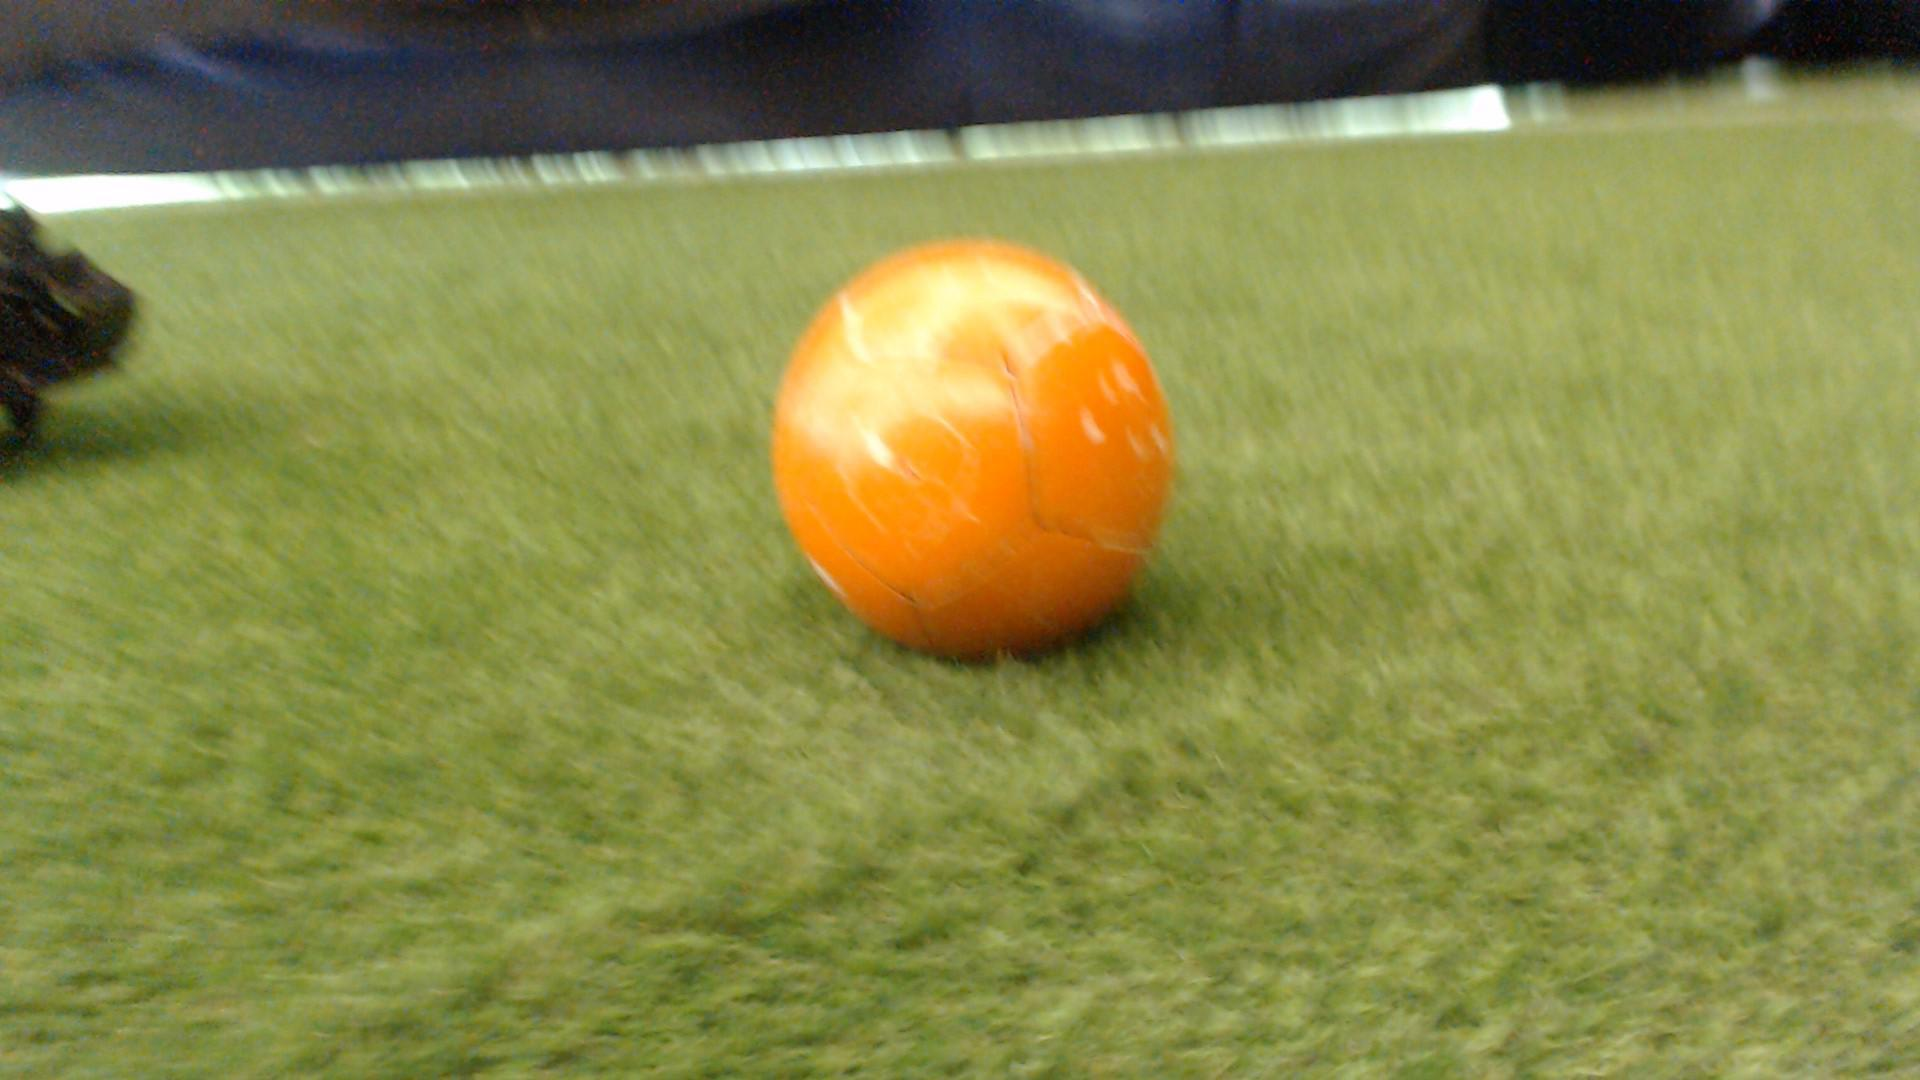bola: (748, 199, 1221, 688)
